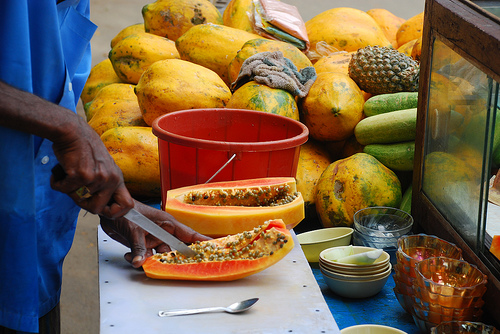pineapple: (346, 46, 423, 95)
